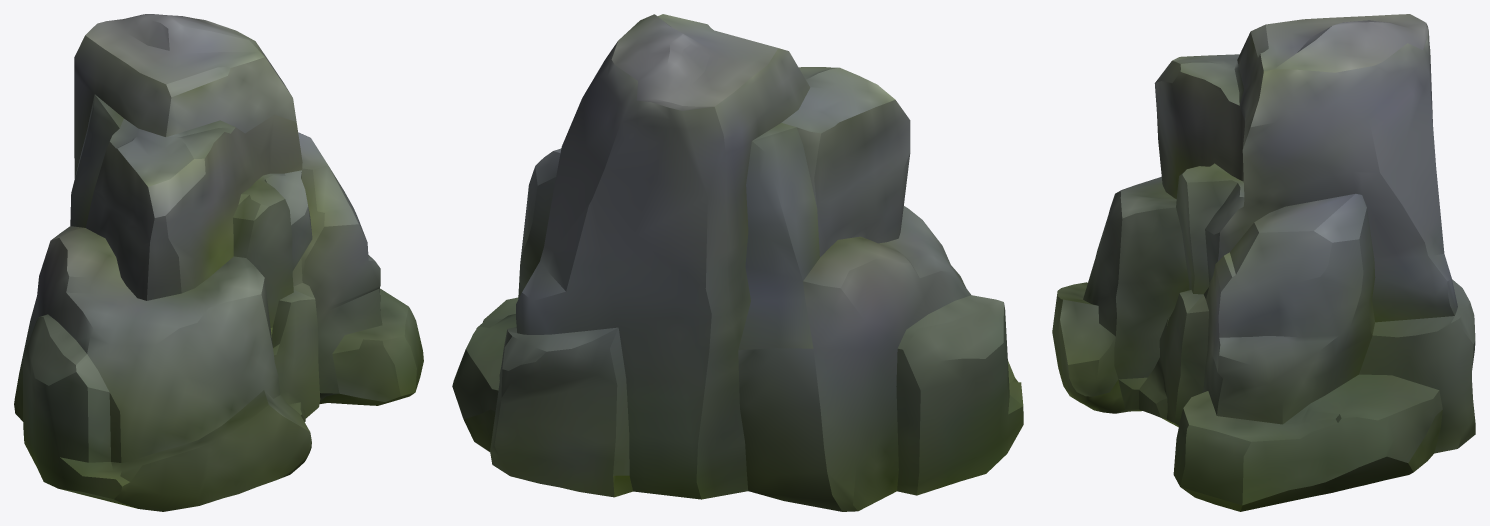
File: rock-4.glb
The picture shows the model from 3 angles, left to right: view 1: azimuth 30°, elevation 25°; view 2: azimuth 150°, elevation 25°; view 3: azimuth 270°, elevation 25°; orthographic projection. The views are drawn at different scales.
Parts seen in each view (by area): view 1: Rock_Big_1; view 2: Rock_Big_1; view 3: Rock_Big_1.
Part boxes in pixels (x1=…): Rock_Big_1: x1=14, y1=14, x2=423, y2=511; Rock_Big_1: x1=452, y1=14, x2=1023, y2=511; Rock_Big_1: x1=1052, y1=14, x2=1475, y2=511.
Size of the model in its own units: 1.08 by 0.95 by 0.9231.
Materials: 1 (1 with a texture image).
